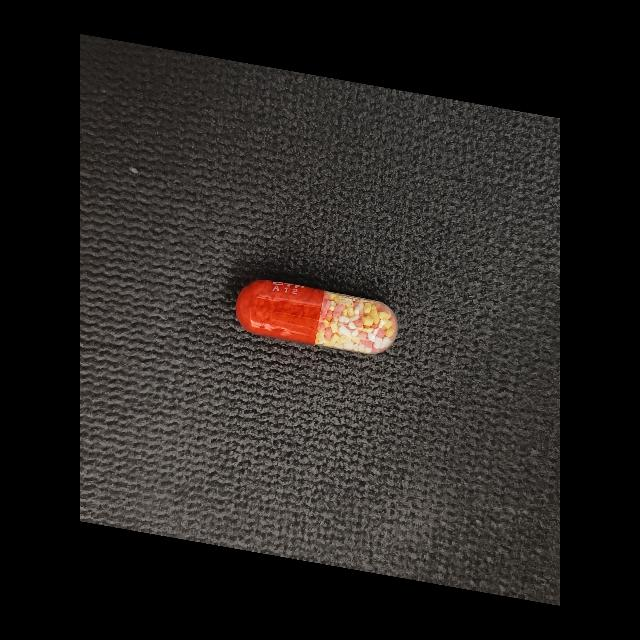Intact Capsule: (236, 280, 398, 354)
